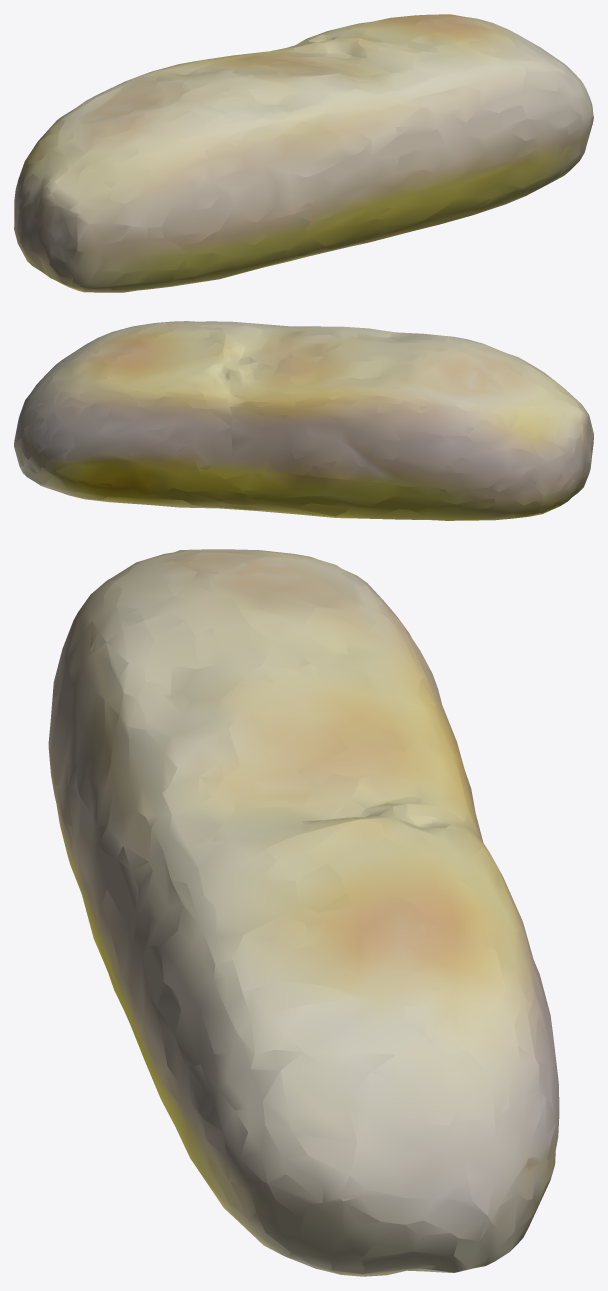
File: 0001_mask_002_bread_loaf.glb
3 views of the same model, one above another, from view 1: azimuth 30°, elevation 25°; view 2: azimuth 150°, elevation 25°; view 3: azimuth 270°, elevation 25° (orthographic). The views are drawn at different scales.
Visible parts, largest first — view 1: mask_002_object; view 2: mask_002_object; view 3: mask_002_object.
Part boxes in pixels (x1=…): mask_002_object: x1=14, y1=14, x2=593, y2=292; mask_002_object: x1=14, y1=321, x2=593, y2=520; mask_002_object: x1=48, y1=549, x2=559, y2=1276.
Size of the model in its own units: 0.3566 by 0.1115 by 0.1533.
